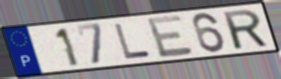1: (53, 26, 82, 67)
6: (191, 11, 227, 54)
7: (74, 22, 104, 67)
E: (144, 13, 196, 60)
L: (112, 23, 153, 61)
R: (220, 8, 271, 51)
